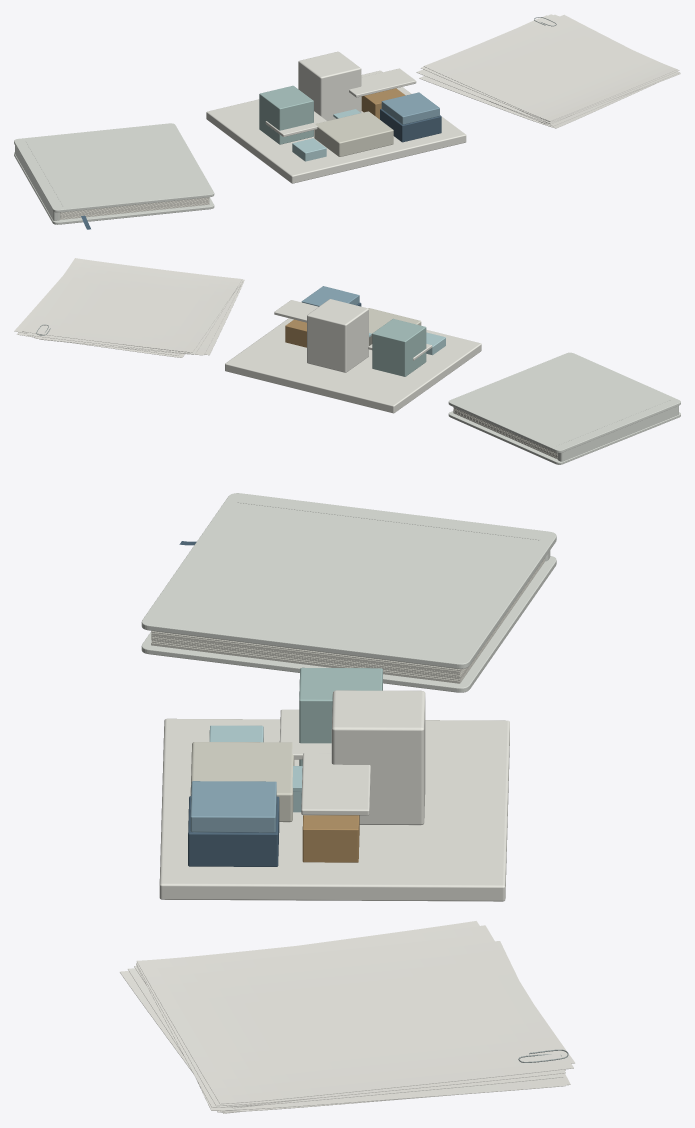
Rendered from portfolio-scene.glb.
The picture shows the model from 3 angles, top to bottom: view 1: azimuth 30°, elevation 25°; view 2: azimuth 150°, elevation 25°; view 3: azimuth 270°, elevation 25°; orthographic projection. The views are drawn at different scales.
Visible parts, largest first — view 1: Loose research sheet 8, Rounded upper cloth cover, Mineral plinth, Rear mineral tower, Front mineral podium, Left frosted tower, Smoked glass cap, Graphite base, Main cantilever slab, Rounded lower cloth cover, Loose research sheet 0, Loose research sheet 4 (+8 smaller); view 2: Loose research sheet 8, Rounded upper cloth cover, Mineral plinth, Rear mineral tower, Left frosted tower, Rounded binding spine, Rounded lower cloth cover, Loose research sheet 4, Smoked glass cap, Loose research sheet 6, Front mineral podium, Main cantilever slab (+3 smaller); view 3: Loose research sheet 8, Rounded upper cloth cover, Mineral plinth, Rear mineral tower, Front mineral podium, Smoked glass cap, Rounded lower cloth cover, Main cantilever slab, Left frosted tower, Graphite base, Copper anchor, Loose research sheet 3 (+4 smaller).
Boxes of the visible parts, <box> form: Loose research sheet 8: <box>423,14,677,121</box>; Rounded upper cloth cover: <box>14,123,214,212</box>; Mineral plinth: <box>206,70,466,183</box>; Rear mineral tower: <box>298,51,361,120</box>; Front mineral podium: <box>314,111,393,156</box>; Left frosted tower: <box>259,85,313,144</box>; Smoked glass cap: <box>381,92,439,124</box>; Graphite base: <box>380,109,441,142</box>; Main cantilever slab: <box>349,68,416,97</box>; Rounded lower cloth cover: <box>14,152,214,224</box>; Loose research sheet 0: <box>419,76,658,128</box>; Loose research sheet 4: <box>416,18,571,124</box>; Loose research sheet 8: <box>25,258,242,352</box>; Rounded upper cloth cover: <box>448,352,680,452</box>; Mineral plinth: <box>225,318,481,413</box>; Rear mineral tower: <box>307,299,368,372</box>; Left frosted tower: <box>372,318,426,376</box>; Rounded binding spine: <box>557,406,678,461</box>; Rounded lower cloth cover: <box>448,411,680,464</box>; Loose research sheet 4: <box>34,283,241,355</box>; Smoked glass cap: <box>301,286,359,306</box>; Loose research sheet 6: <box>27,288,236,354</box>; Front mineral podium: <box>368,308,421,345</box>; Main cantilever slab: <box>274,300,318,322</box>; Loose research sheet 8: <box>136,925,568,1104</box>; Rounded upper cloth cover: <box>141,493,556,668</box>; Mineral plinth: <box>159,718,509,901</box>; Rear mineral tower: <box>331,690,425,825</box>; Front mineral podium: <box>190,742,294,822</box>; Smoked glass cap: <box>190,781,276,832</box>; Rounded lower cloth cover: <box>141,556,556,692</box>; Main cantilever slab: <box>301,753,370,815</box>; Left frosted tower: <box>299,667,382,765</box>; Graphite base: <box>188,796,279,866</box>; Copper anchor: <box>302,815,359,862</box>; Loose research sheet 3: <box>197,942,565,1110</box>.
Bounding box in the file's own units: 11.87 × 1.05 × 3.84.
